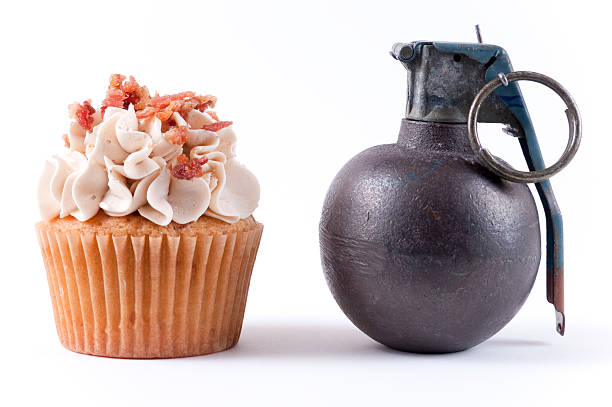e1: (323, 42, 586, 365)
